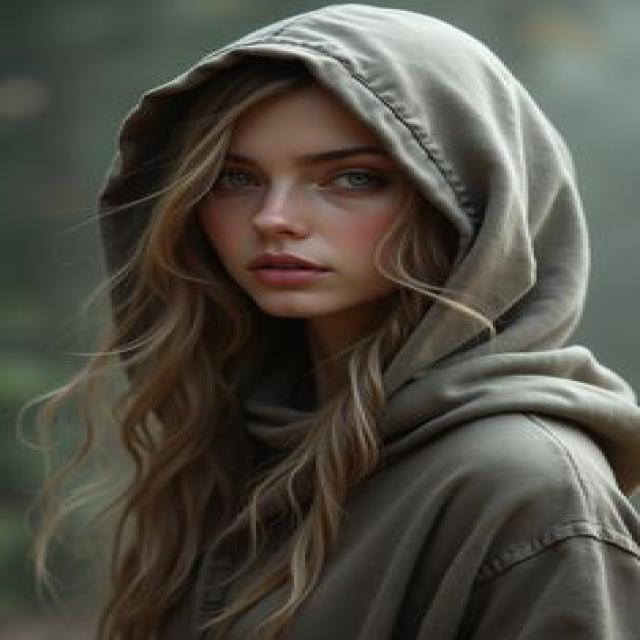4_capucha: (94, 2, 602, 412)
